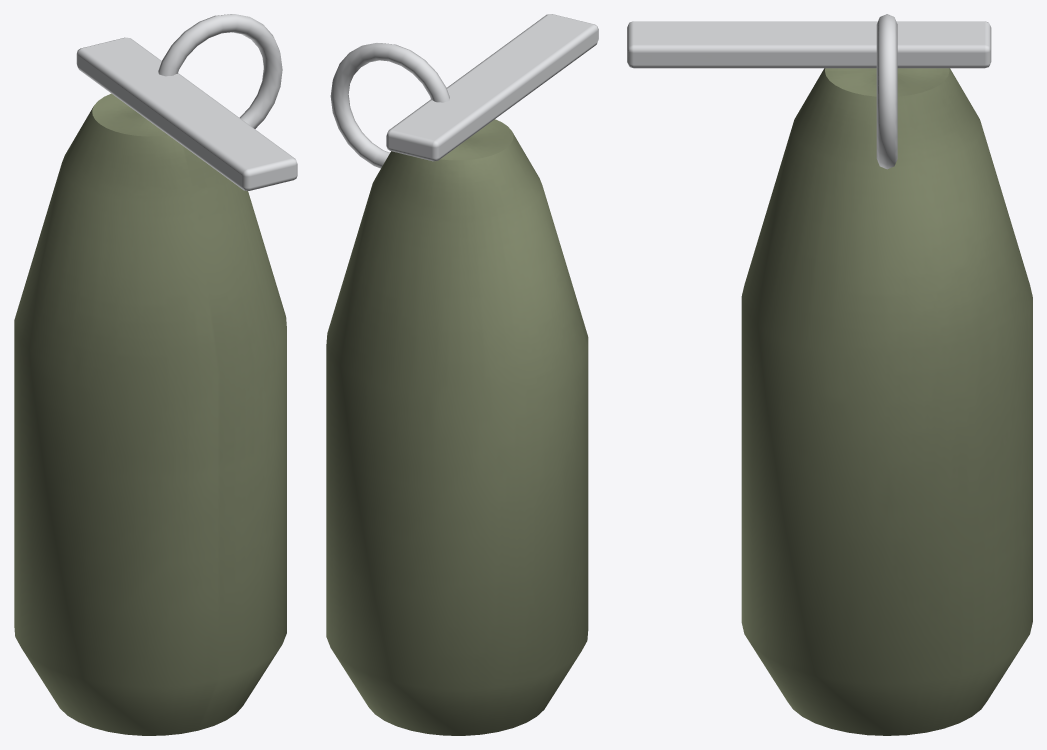
The model's file is fps-weapon-set-and-firing-range-smoke-grenade-fea9f379__19490.glb.
The picture shows the model from 3 angles, left to right: view 1: azimuth 30°, elevation 25°; view 2: azimuth 150°, elevation 25°; view 3: azimuth 270°, elevation 25°; orthographic projection. The views are drawn at different scales.
Visible parts, largest first — view 1: smoke-grenade; view 2: smoke-grenade; view 3: smoke-grenade.
Part boxes in pixels (left/top/right/bottom): smoke-grenade: left=14, top=14, right=297, bottom=735; smoke-grenade: left=326, top=14, right=598, bottom=735; smoke-grenade: left=627, top=14, right=1032, bottom=735.
Size of the model in its own units: 0.059 by 0.15 by 0.078.
2 materials, 1 textured.
